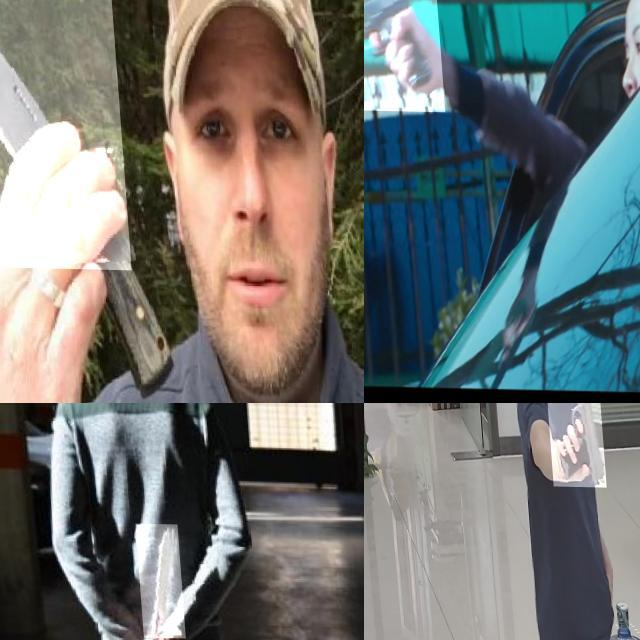-: (0, 0, 125, 269), (133, 522, 181, 638)
gun-knife-thesis - v11 Yolov5 augmented: (364, 0, 440, 111), (542, 403, 602, 485)
